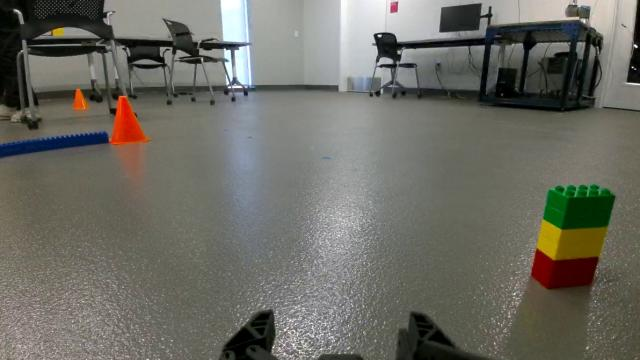lego: (527, 176, 620, 301)
